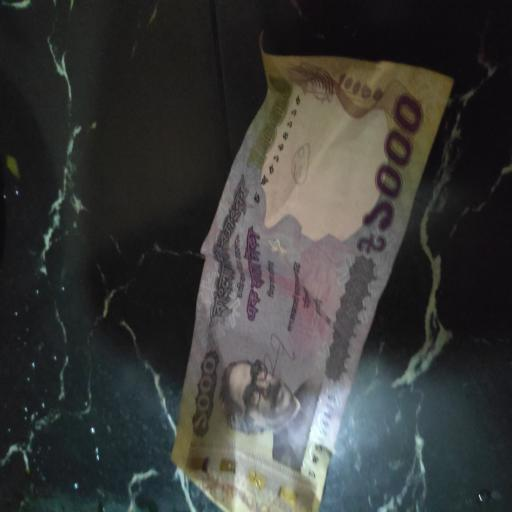1000taka: (168, 53, 450, 509)
